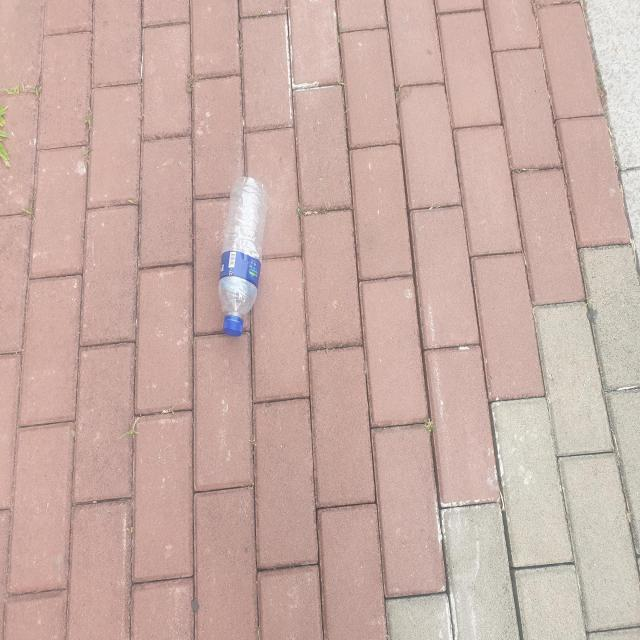plastic: (218, 176, 268, 337)
